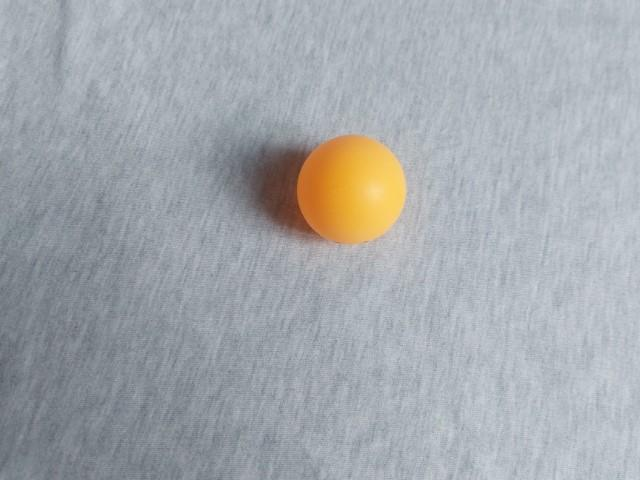oball: (227, 229, 351, 350)
